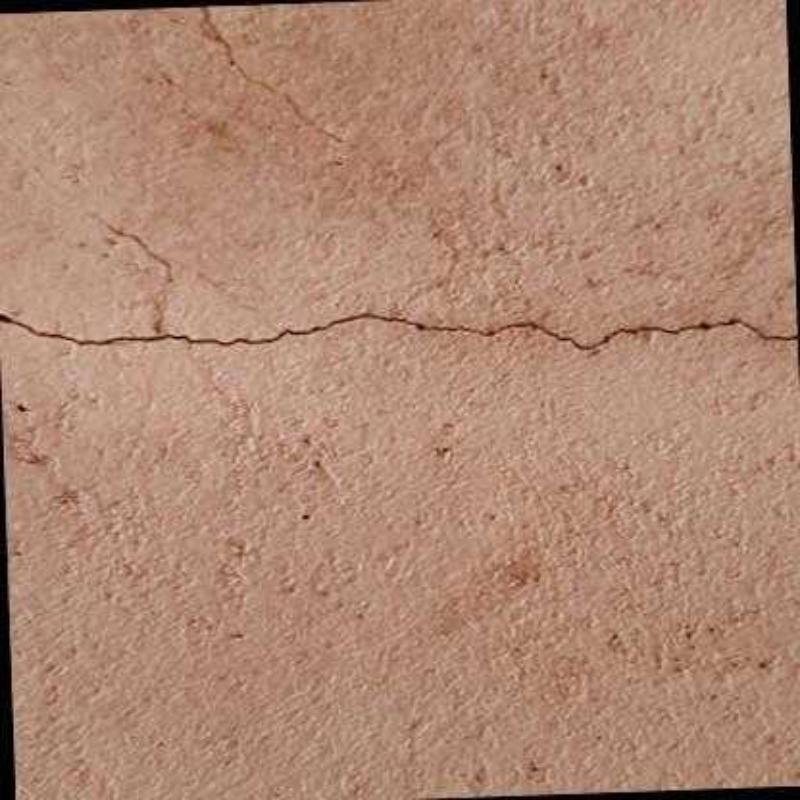crack: (0, 312, 798, 354)
